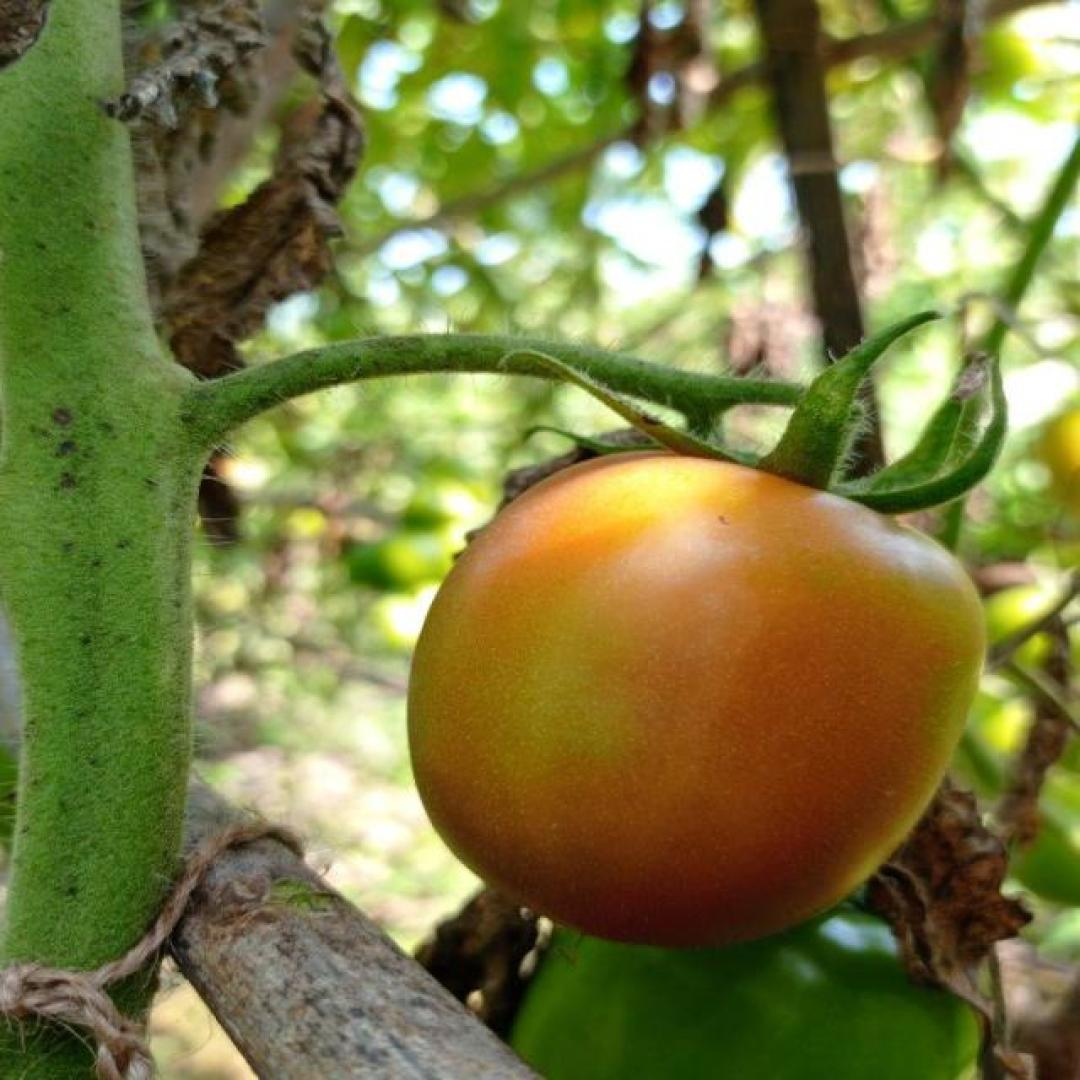setengah_matang: (402, 446, 988, 953)
